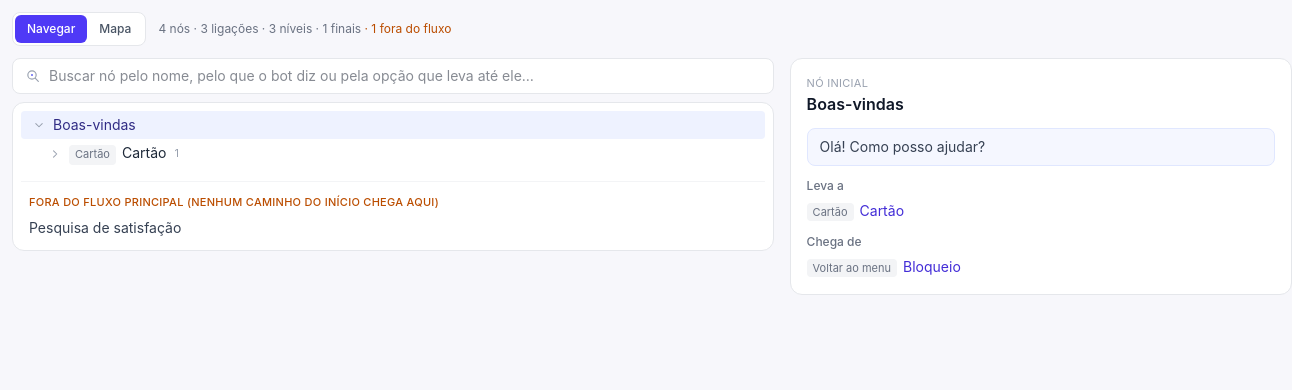
Test: Árvore de diálogo › busca um nó pelo texto (sem acento) e abre o caminho até ele
Type "ultimos digitos" into the field with placeholder "Buscar nó" at (405, 76), box [49,66,761,86]
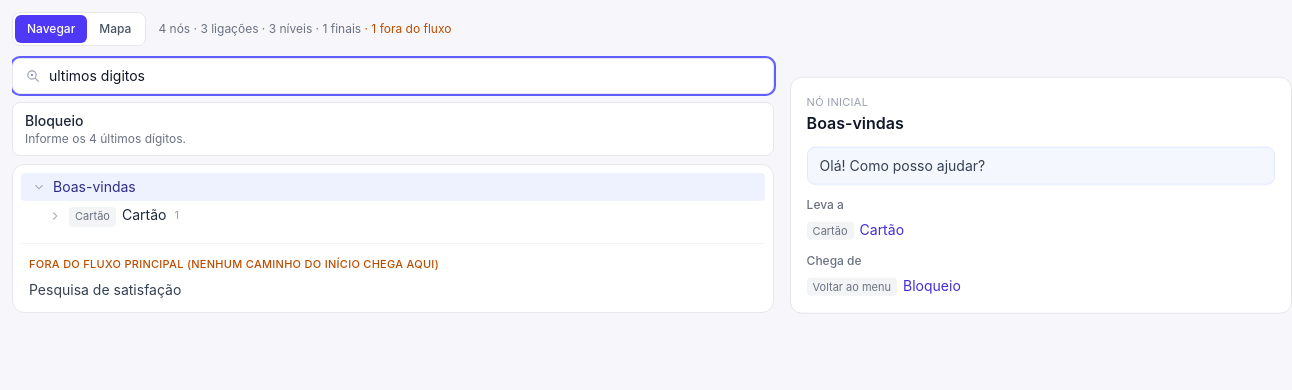
Click the button "Bloqueio Informe os 4 últimos dígitos." at (54, 120), box [13,103,773,155]
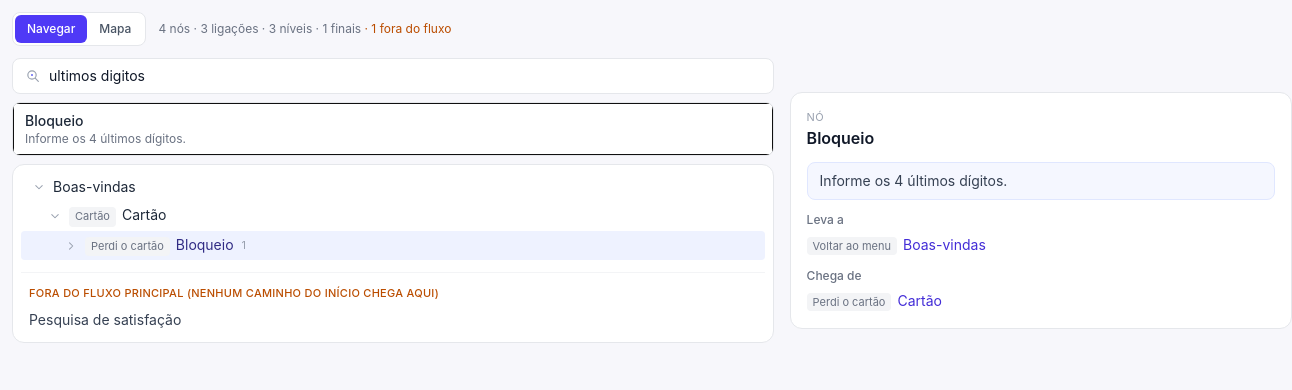
Expected: the text "Chega de" is shown, [807,268,862,282]
Now the 1st text "Informe os 4 últimos dígitos." is shown, box [25,131,186,146]
Abrindo o nó, o laço de volta para o início aparece como atalho, sem repetir a árvore.
Click the button named "Expandir" at (71, 246), box [61,236,81,256]
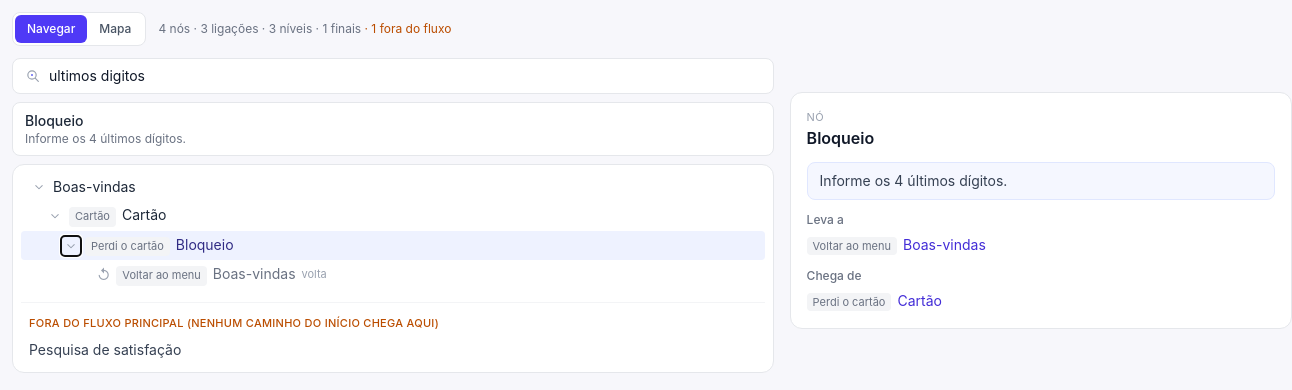
Now the text "volta" is shown, box [302,267,327,283]
